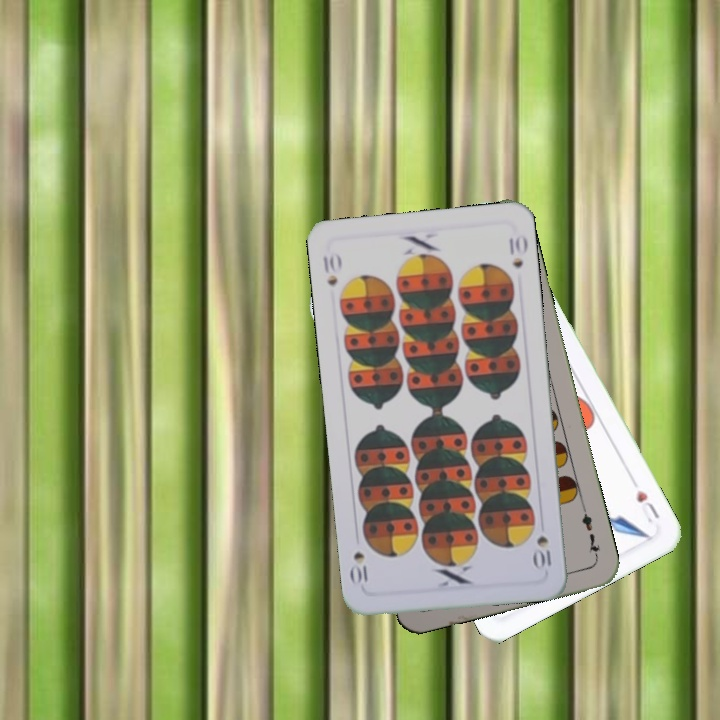E7: (577, 503, 603, 562)
HU: (632, 485, 663, 526)
S10: (319, 249, 344, 288), (531, 532, 554, 570)
